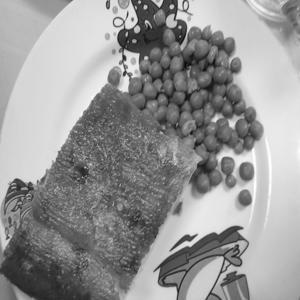casserole: (5, 4, 246, 293)
